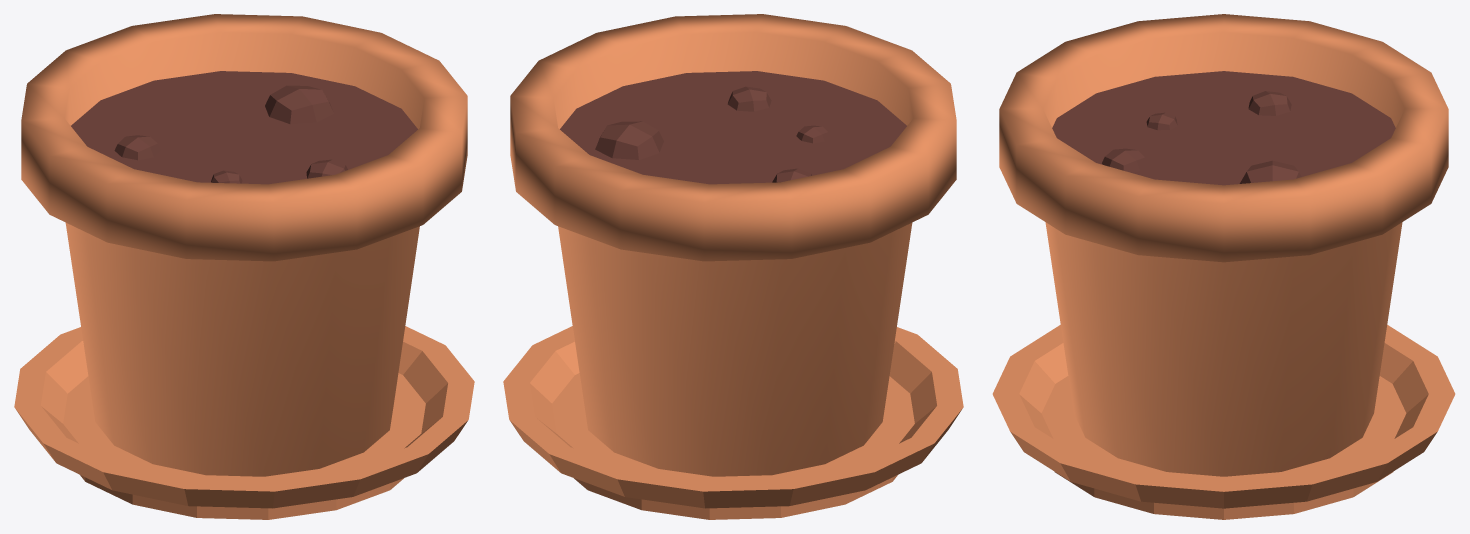
The model's file is pot_prueba.fbx.
3 views of the same model, side by side, from view 1: azimuth 30°, elevation 25°; view 2: azimuth 150°, elevation 25°; view 3: azimuth 270°, elevation 25° (orthographic).
Visible parts, largest first — view 1: Maceta, Plato, Tierra; view 2: Maceta, Plato, Tierra; view 3: Maceta, Plato, Tierra.
Part boxes in pixels (box(x1,y1,x2,y2)): Maceta: box(21, 14, 467, 476); Plato: box(14, 326, 474, 519); Tierra: box(71, 71, 417, 184); Maceta: box(510, 14, 956, 476); Plato: box(503, 326, 963, 519); Tierra: box(560, 71, 906, 184); Maceta: box(999, 14, 1448, 476); Plato: box(992, 325, 1455, 519); Tierra: box(1052, 71, 1395, 185).
Size of the model in its own units: 310 by 247 by 310.
